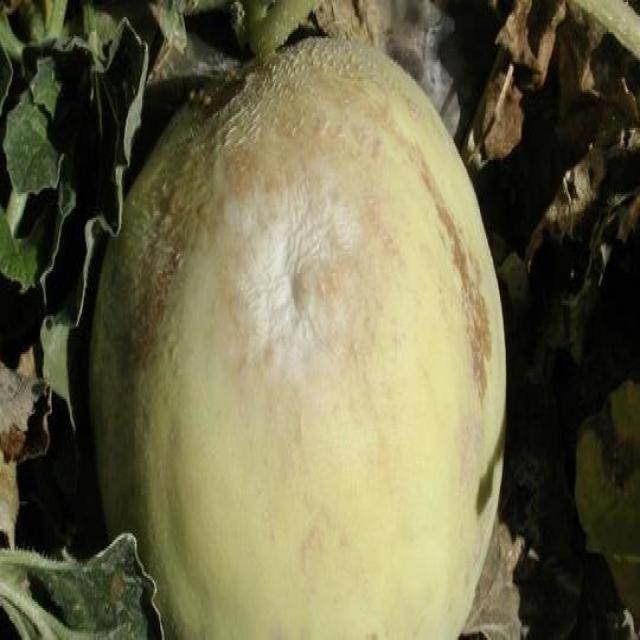Sunscald Fruit: (135, 91, 248, 265)
